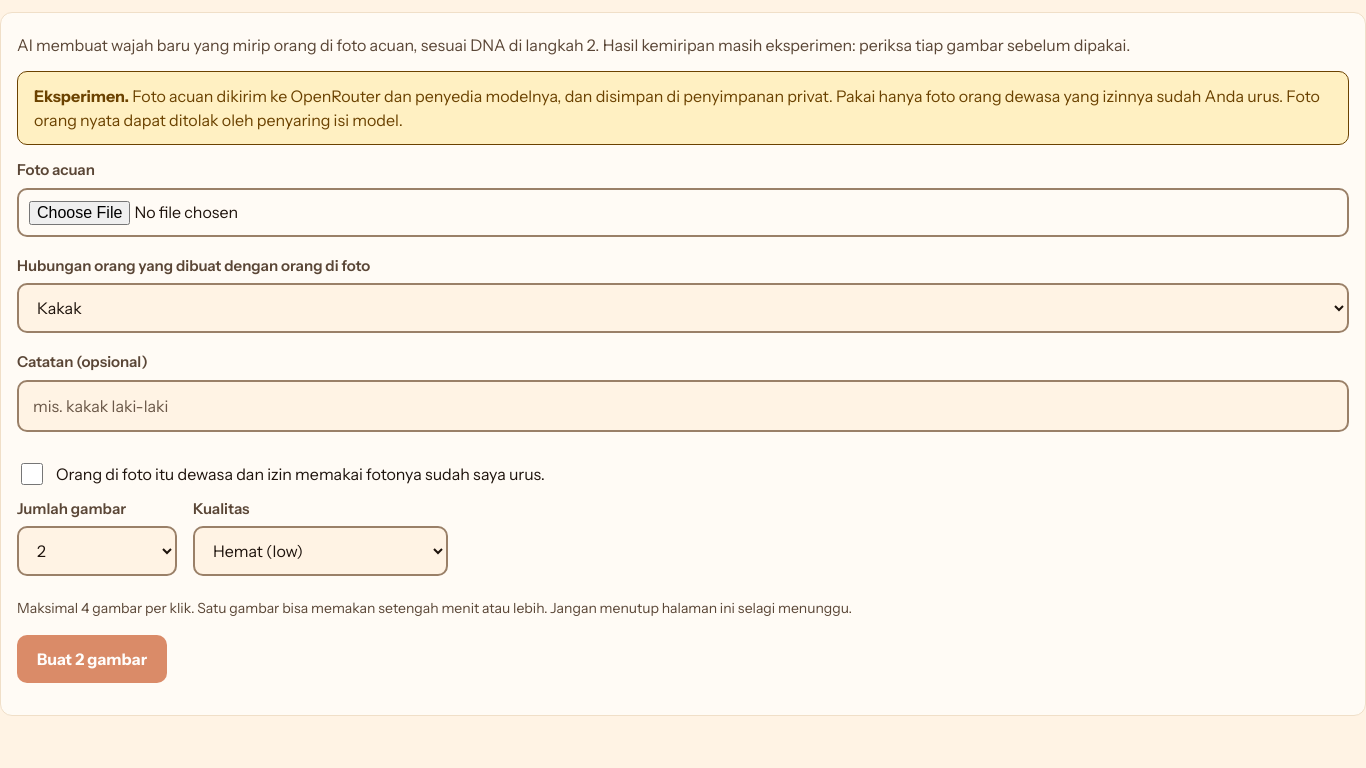
Test case: PanelGenerate: wajah dari foto acuan (eksperimen) › pilihan hubungan mengikuti DNA (laki-laki: tanpa ibu), dan peringatan konflik tampil bila catatan bertentangan dengan DNA
Step 1. Type "kakak perempuan" into the field labelled "Catatan (opsional)" → [683, 406], box [17,380,1349,432]
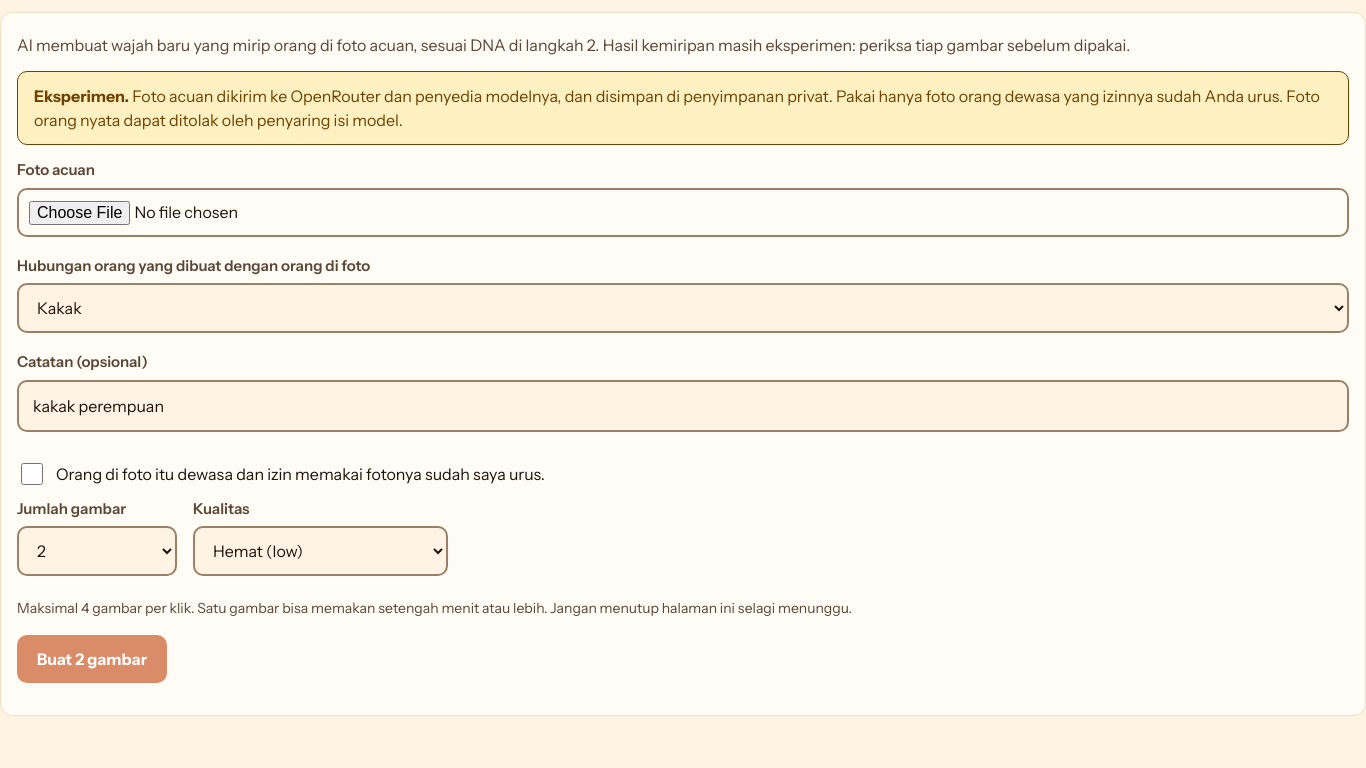
Step 2. Replace the text in the field labelled "Catatan (opsional)" with "laki-laki" → [683, 406], box [17,380,1349,432]
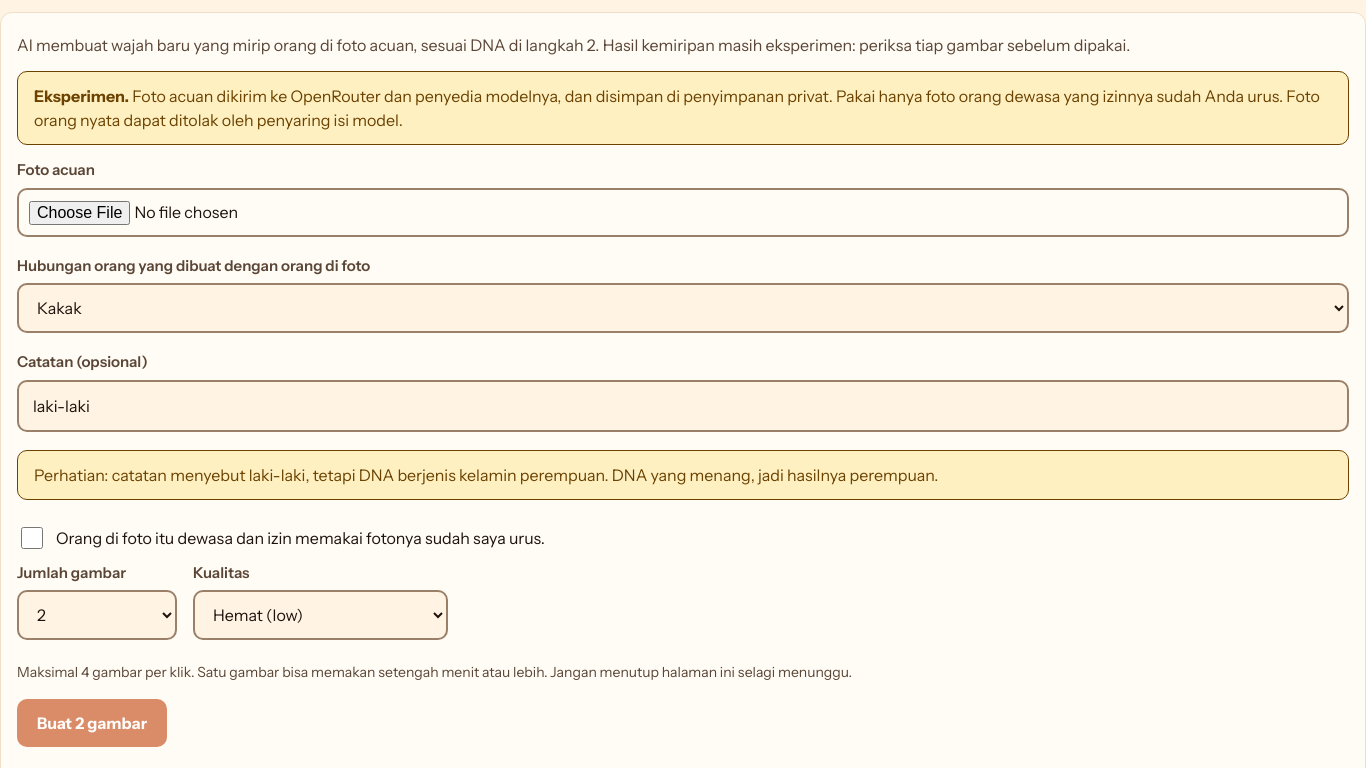
Check: the message with test id "konflik" shows "catatan menyebut laki-laki, tetapi DNA berjenis kelamin perempuan", box [112,464,938,484]
